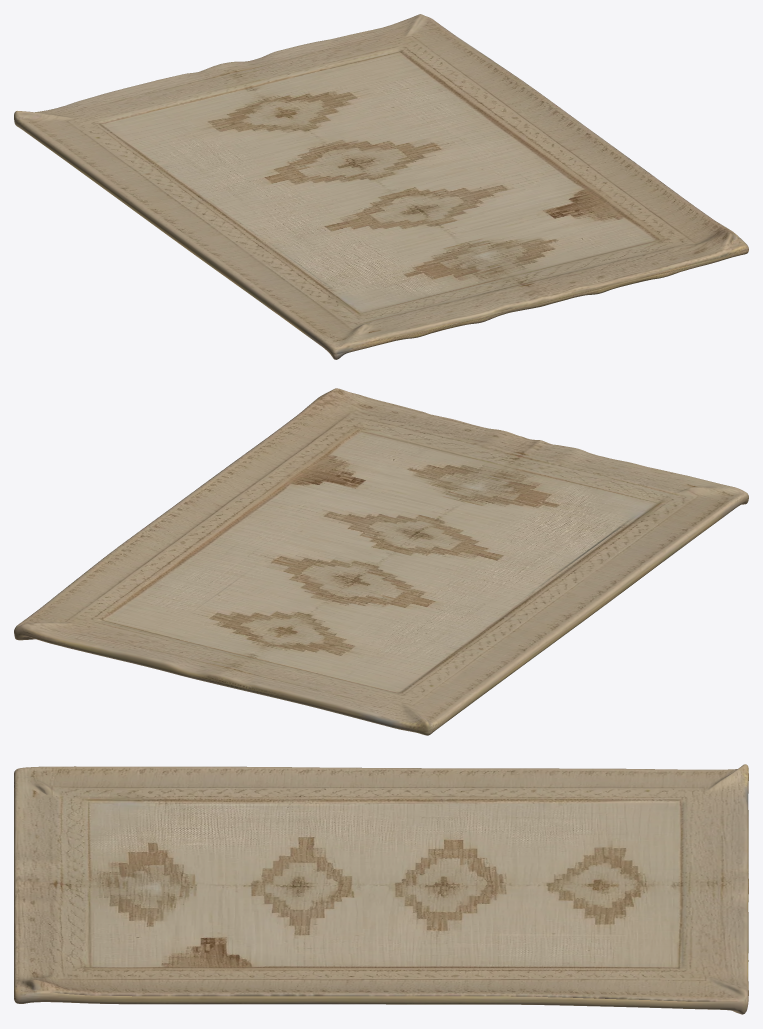
3 views of the same model, one above another, from view 1: azimuth 30°, elevation 25°; view 2: azimuth 150°, elevation 25°; view 3: azimuth 270°, elevation 25° (orthographic). The views are drawn at different scales.
Parts seen in each view (by area): view 1: material; view 2: material; view 3: material.
Part boxes in pixels (bbox=[...]): material: bbox=[14, 14, 748, 359]; material: bbox=[14, 388, 748, 735]; material: bbox=[14, 764, 748, 1014].
Bounding box in the file's own units: 0.7217 × 0.0445 × 0.9651.
Materials: 1 (1 with a texture image).
